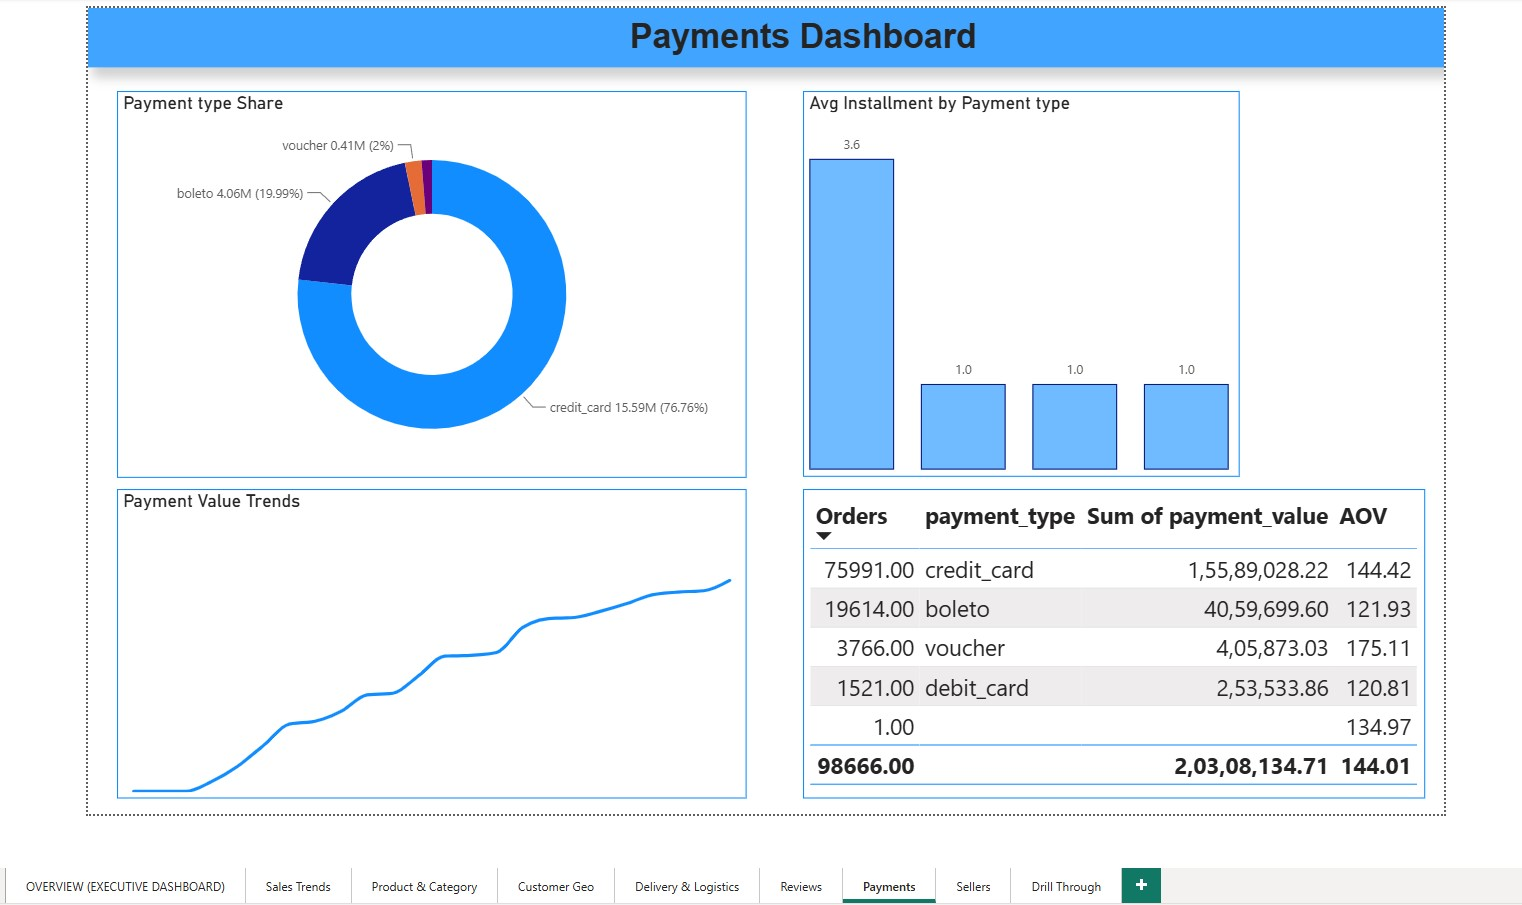

What the dashboard file says about the page in this screenshot:
{"tool":"powerbi","page":{"name":"Payments","canvas":[1280,760],"ordinal":6},"visuals":[{"type":"donutChart","title":"Payment type Share","fields":{"Category":["public bi_fact_sales.payment_type"],"Y":["Sum(public bi_fact_sales.payment_value)"]},"box":[27.1,78.1,594.3,364.7],"z":0},{"type":"clusteredColumnChart","title":"Avg Installment by Payment type","fields":{"Category":["public bi_fact_sales.payment_type"],"Y":["public bi_fact_sales.Avg Installments"]},"box":[674.7,78.4,411.8,364.2],"z":1000},{"type":"lineChart","title":"Payment Value Trends","fields":{"Category":["DimDate.Year-Month"],"Y":["Sum(public bi_fact_sales.payment_value)"]},"box":[27.4,453.4,593.9,292.3],"z":2000},{"type":"tableEx","title":"Top 20 Categories","fields":{"Values":["public bi_fact_sales.Orders","public bi_fact_sales.payment_type","Sum(public bi_fact_sales.payment_value)","public bi_fact_sales.AOV"]},"box":[674.7,453.4,587.2,292.3],"z":3000},{"type":"shape","box":[0,0,1280.2,56.2],"z":4000},{"type":"textbox","box":[503.1,4.2,343.8,46.9],"z":5000}]}

Visuals, with their boxes on the page's 1280x760 design canvas (x1, y1, x2, y2). These are canvas units, not pixel positions in the 1522x905 screenshot, which may show the page scaled, cropped or inside an application window:
"Payment type Share" donutChart: select_region(27, 78, 621, 443)
"Avg Installment by Payment type" clusteredColumnChart: select_region(675, 78, 1086, 443)
"Payment Value Trends" lineChart: select_region(27, 453, 621, 746)
"Top 20 Categories" tableEx: select_region(675, 453, 1262, 746)
shape: select_region(0, 0, 1280, 56)
textbox: select_region(503, 4, 847, 51)
